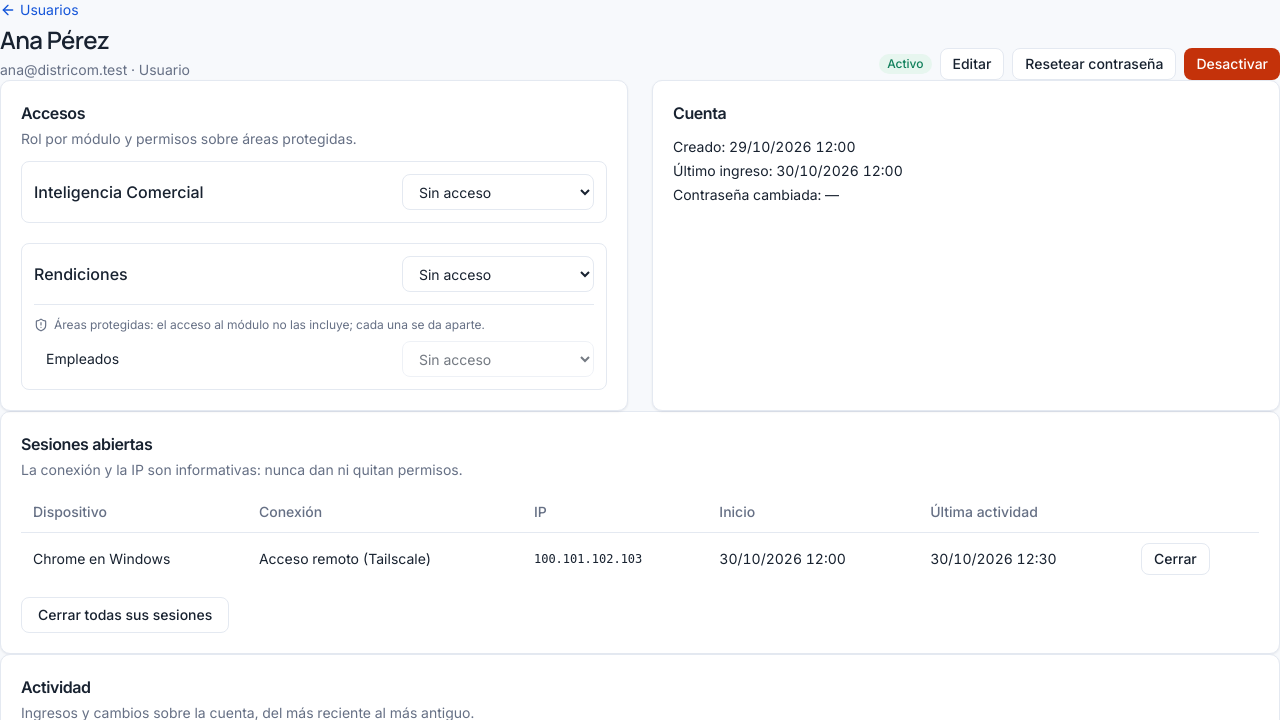
UserDetail › resets the password after a confirmation and shows the temporary one
This screenshot has width=1280, height=720.
Click the button "Resetear contraseña" at (1094, 64), box [1012,48,1176,80]
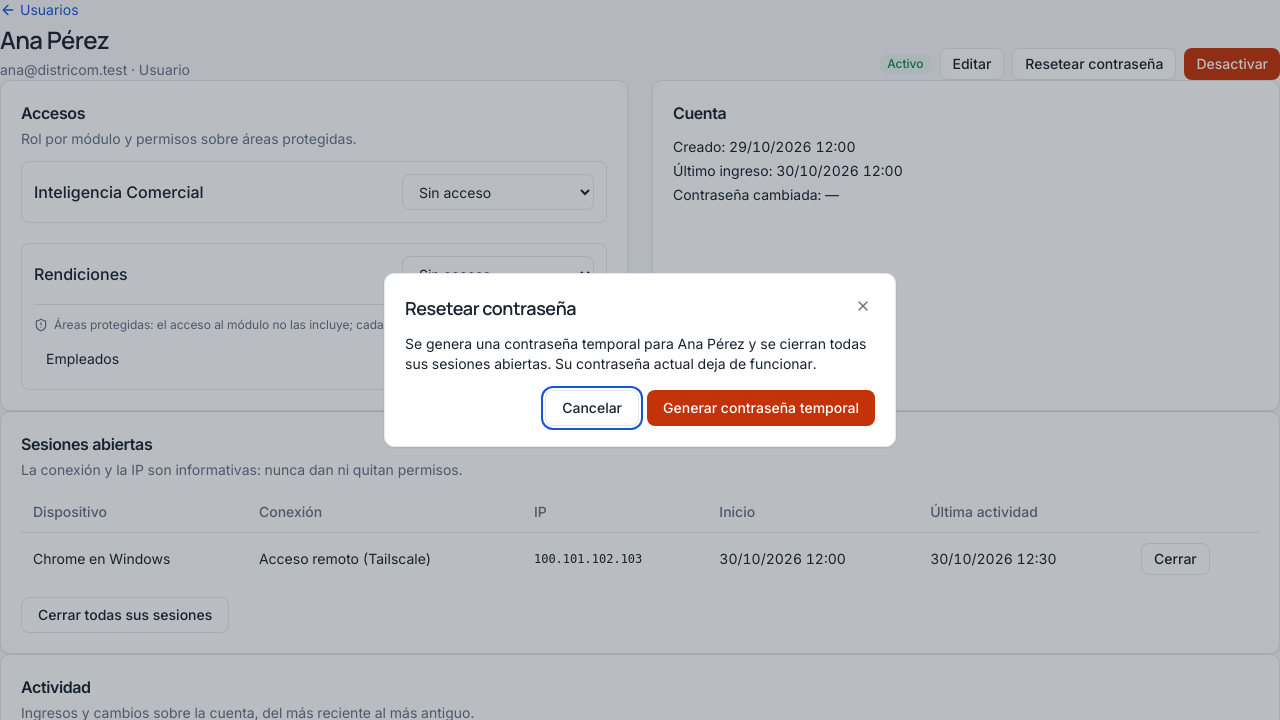
Expected: the text "se cierran todas sus sesiones" is shown, [405,335,866,372]
Click the button "Generar contraseña temporal" at (761, 408), box [647,390,875,426]
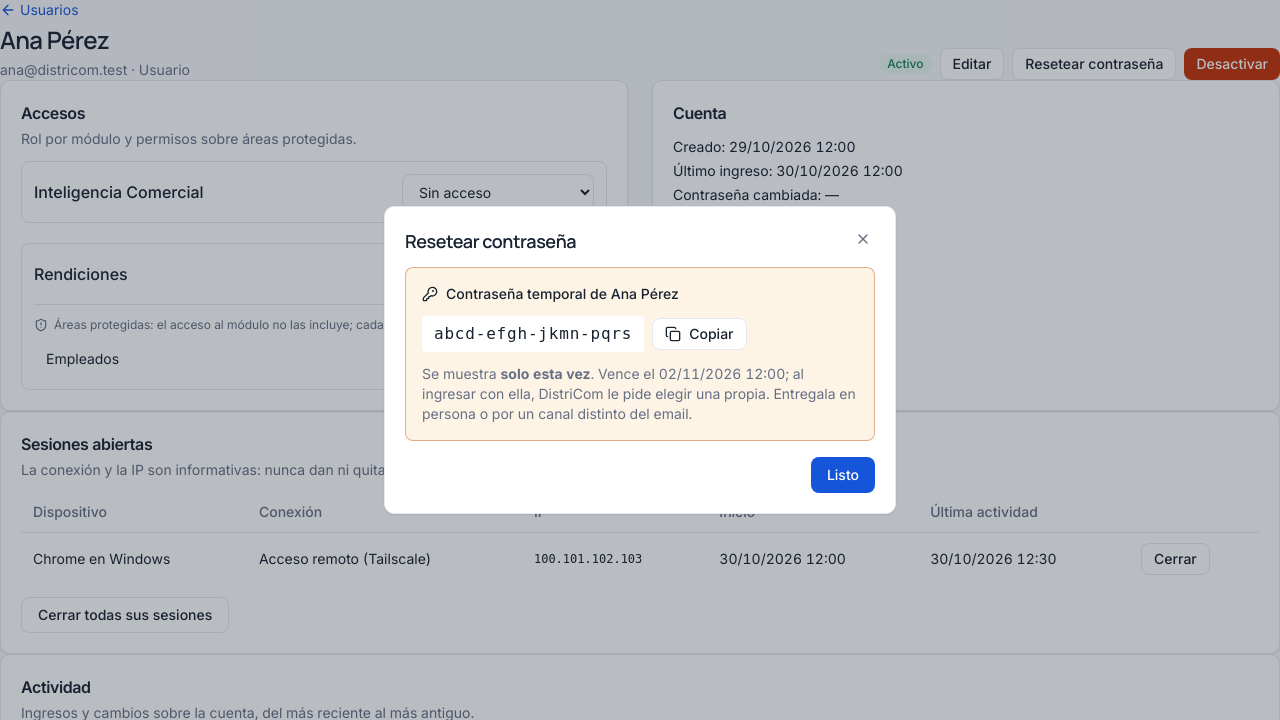
Expected: the text named "Contraseña temporal" reads "abcd-efgh-jkmn-pqrs", [434,324,632,343]
